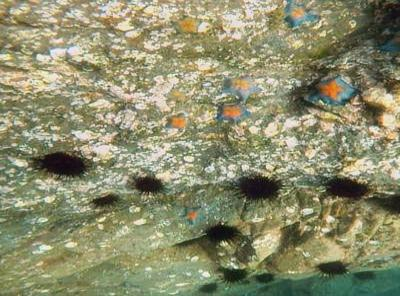urchin: (38, 150, 90, 180), (235, 172, 282, 204), (328, 175, 369, 202), (204, 221, 240, 243), (133, 174, 165, 196), (318, 258, 348, 279), (222, 264, 251, 285), (90, 190, 119, 209), (380, 191, 400, 213), (352, 268, 378, 283), (254, 271, 276, 285), (200, 279, 220, 294)
